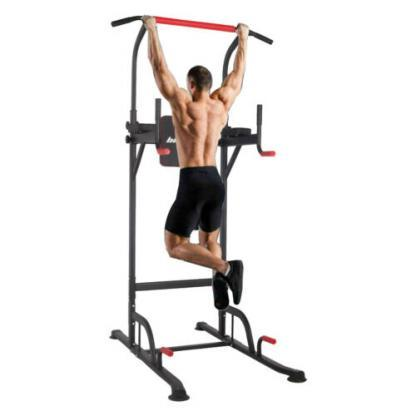chinning dipping: (109, 15, 306, 403)
